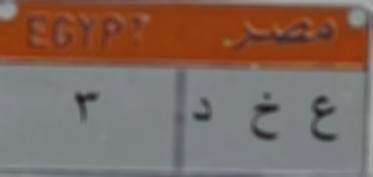3: (70, 87, 106, 132)
ain: (306, 90, 346, 154)
daal: (187, 91, 217, 130)
khaa: (247, 86, 284, 153)
